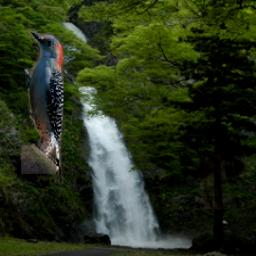Woodpecker: (189, 0, 246, 210), (21, 27, 63, 185)
